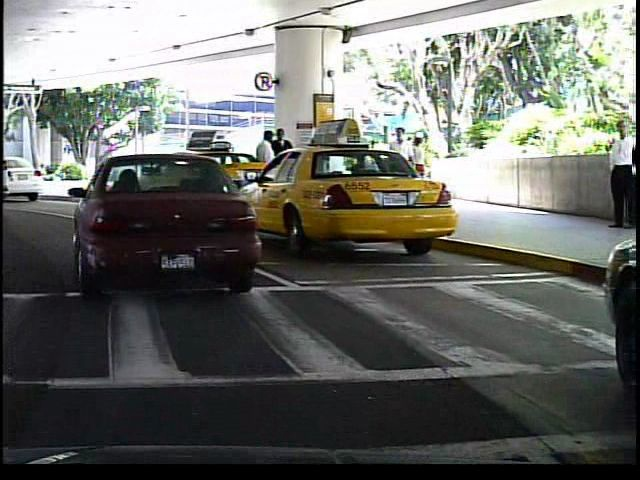person: (595, 112, 634, 237), (383, 119, 419, 208), (249, 126, 280, 209), (403, 131, 433, 200), (272, 126, 295, 205)
